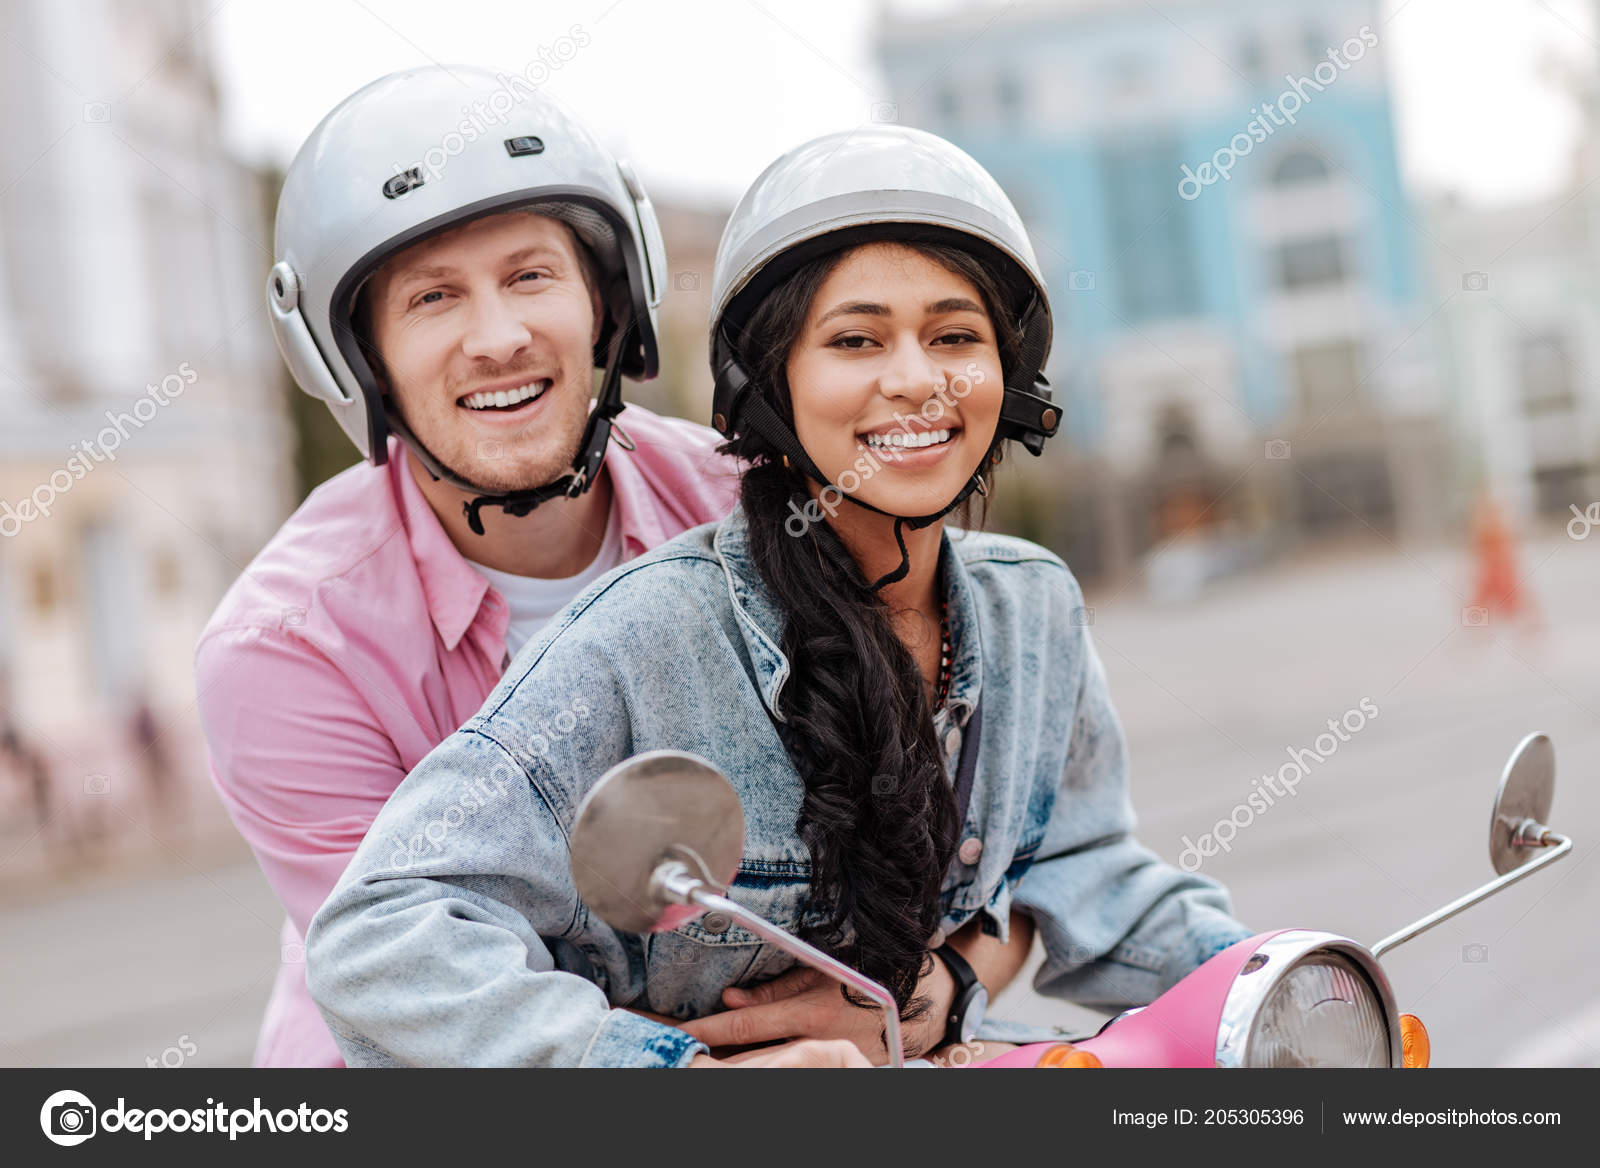helmet: (253, 83, 662, 345), (694, 135, 1071, 368)
